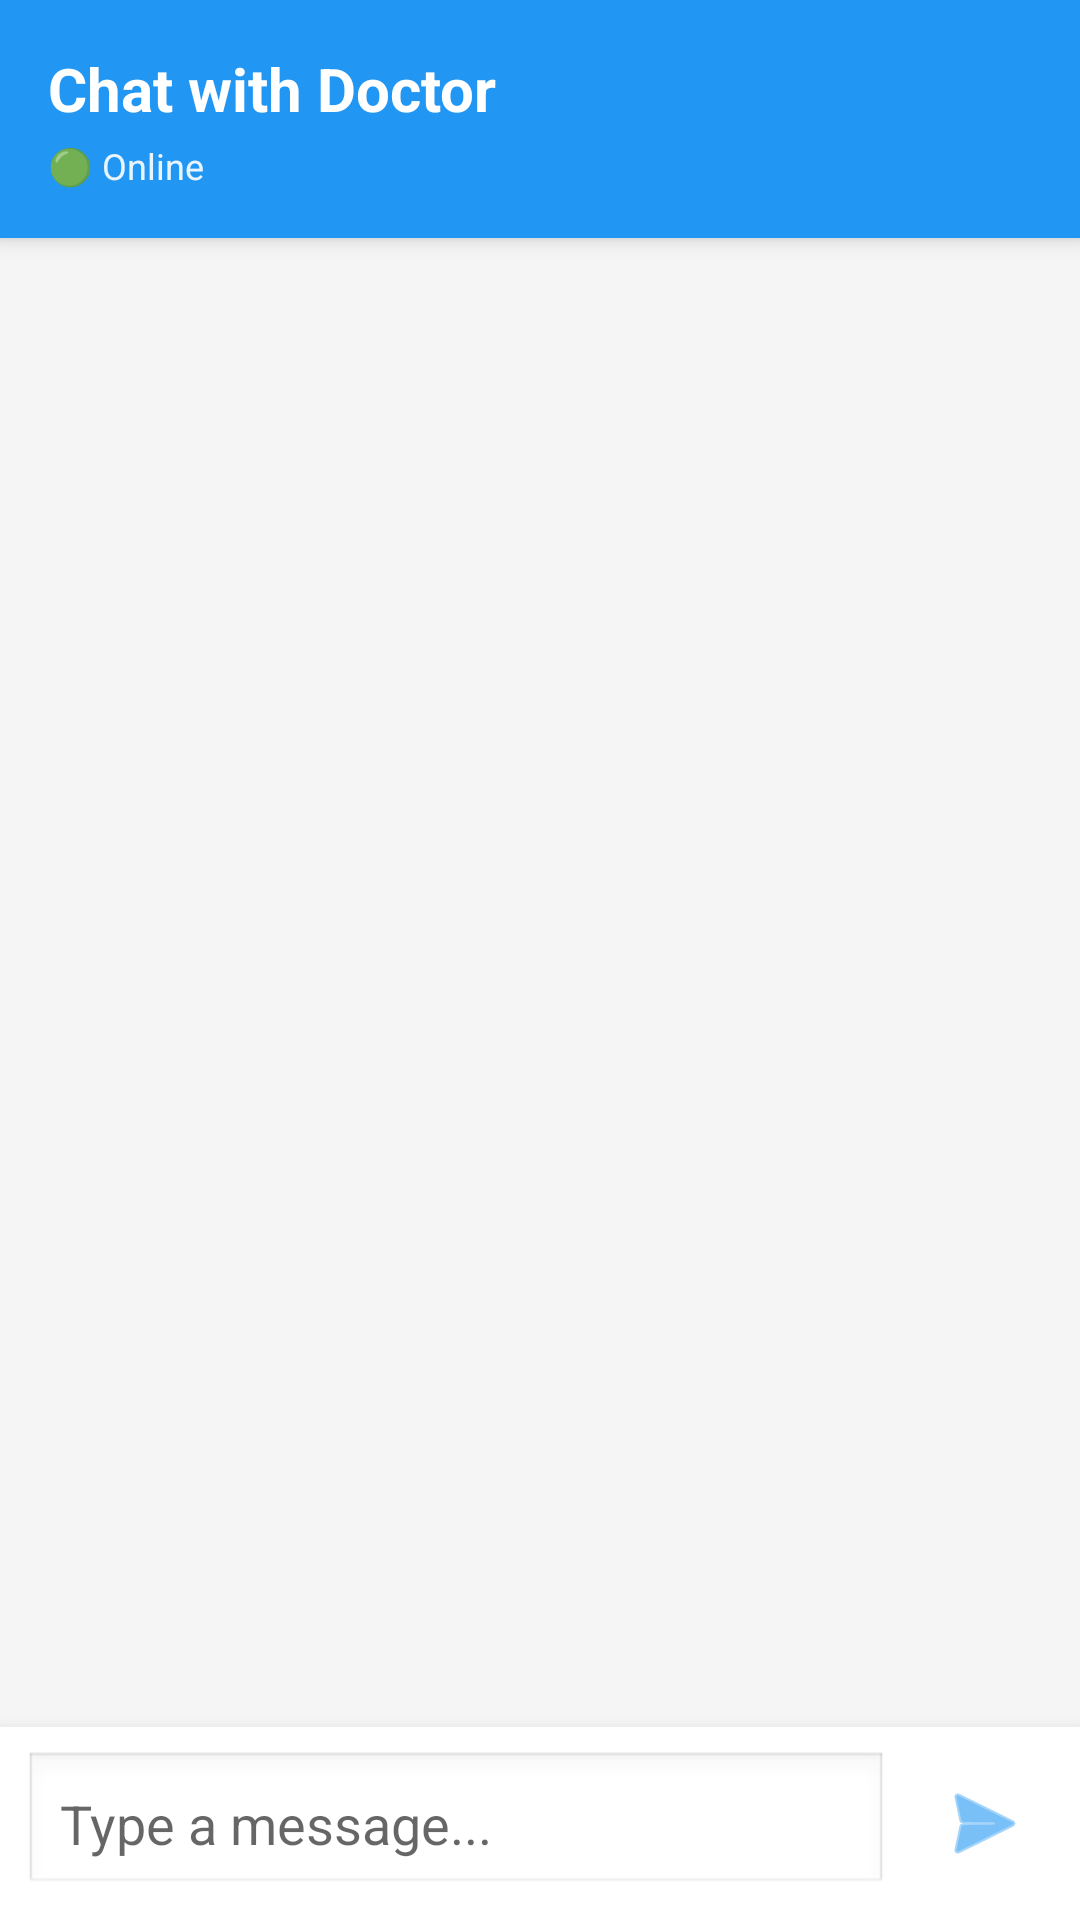

Icons on this 1080px×1920px Android screen, each with the point to tap as [x,y]:
Send message: [985,1823]
